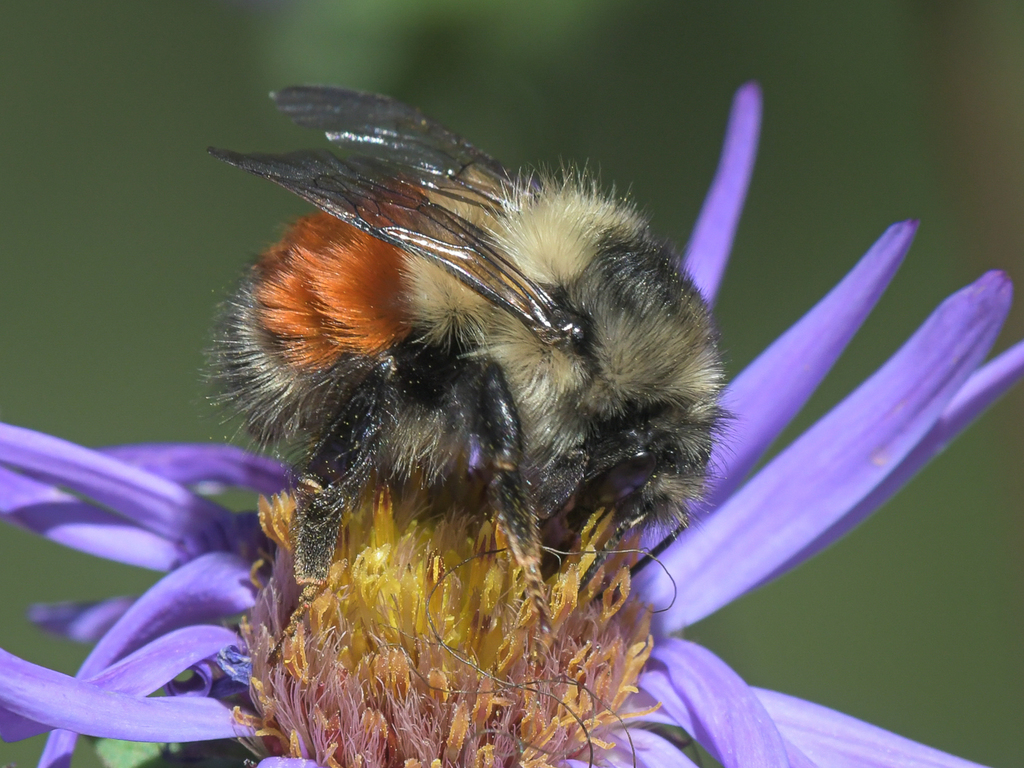bumblebee: (202, 85, 734, 592)
